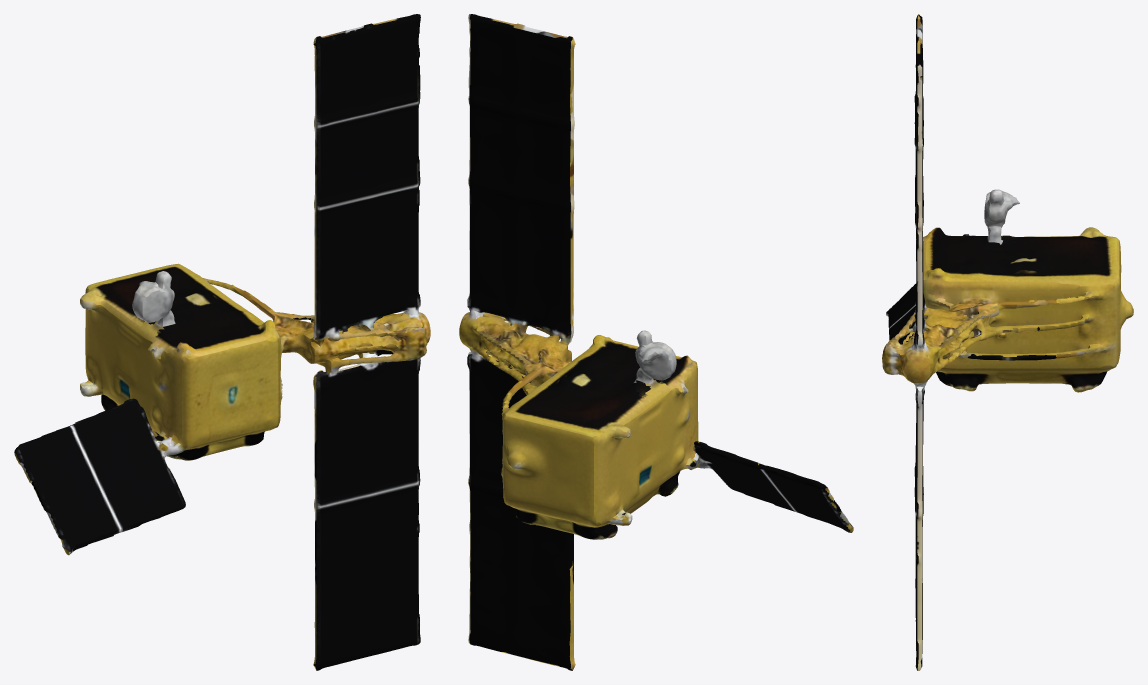
Rendered from fam_beidou.glb.
3 views of the same model, side by side, from view 1: azimuth 30°, elevation 25°; view 2: azimuth 150°, elevation 25°; view 3: azimuth 270°, elevation 25° (orthographic). The views are drawn at different scales.
Visible parts, largest first — view 1: tmp078n64q6.ply; view 2: tmp078n64q6.ply; view 3: tmp078n64q6.ply.
Part boxes in pixels (box(x1,y1,x2,y2)): tmp078n64q6.ply: box(14, 14, 430, 670); tmp078n64q6.ply: box(459, 14, 853, 670); tmp078n64q6.ply: box(882, 14, 1133, 670).
Bounding box in the file's own units: 0.6344 × 0.9898 × 0.3696.
Materials: 1 (1 with a texture image).
